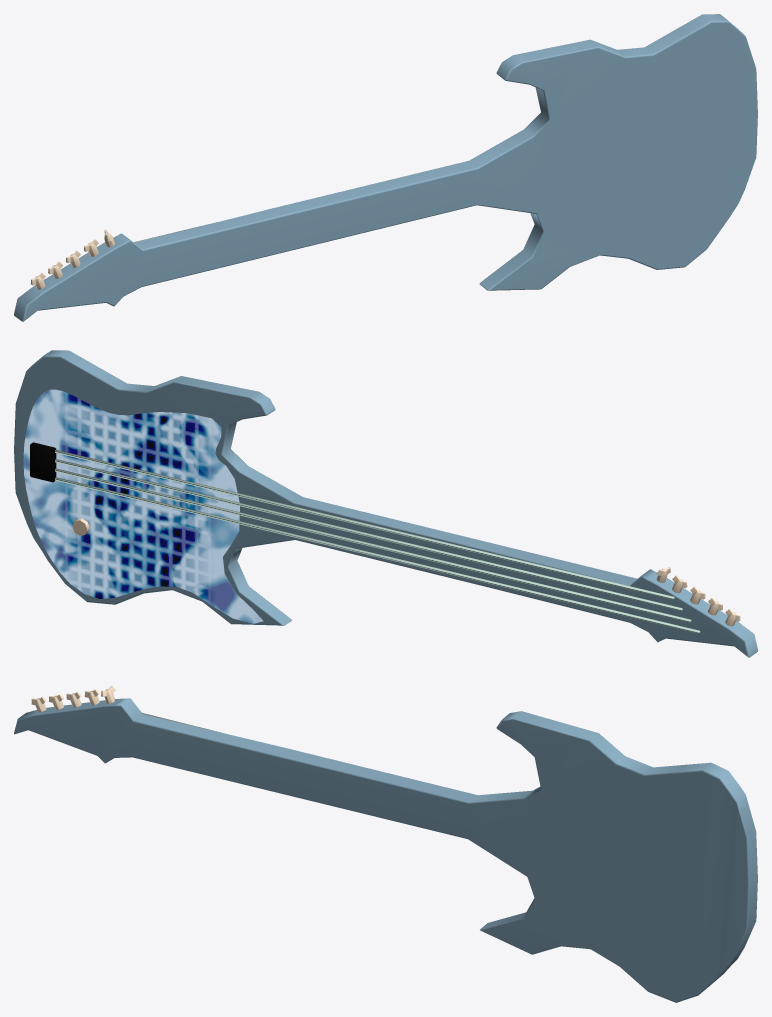
The model's file is guitar.glb.
The picture shows the model from 3 angles, top to bottom: view 1: azimuth 30°, elevation 25°; view 2: azimuth 150°, elevation 25°; view 3: azimuth 330°, elevation 25°; orthographic projection.
Parts seen in each view (by area): view 1: Plane; view 2: Plane; view 3: Plane.
Boxes of the visible parts, x1,y1,x2,y2 form: Plane: (14, 14, 757, 321); Plane: (14, 350, 757, 657); Plane: (14, 686, 757, 1002).
Size of the model in its own units: 1.22 by 0.3904 by 0.0363.
Materials: 5 (1 with a texture image).
